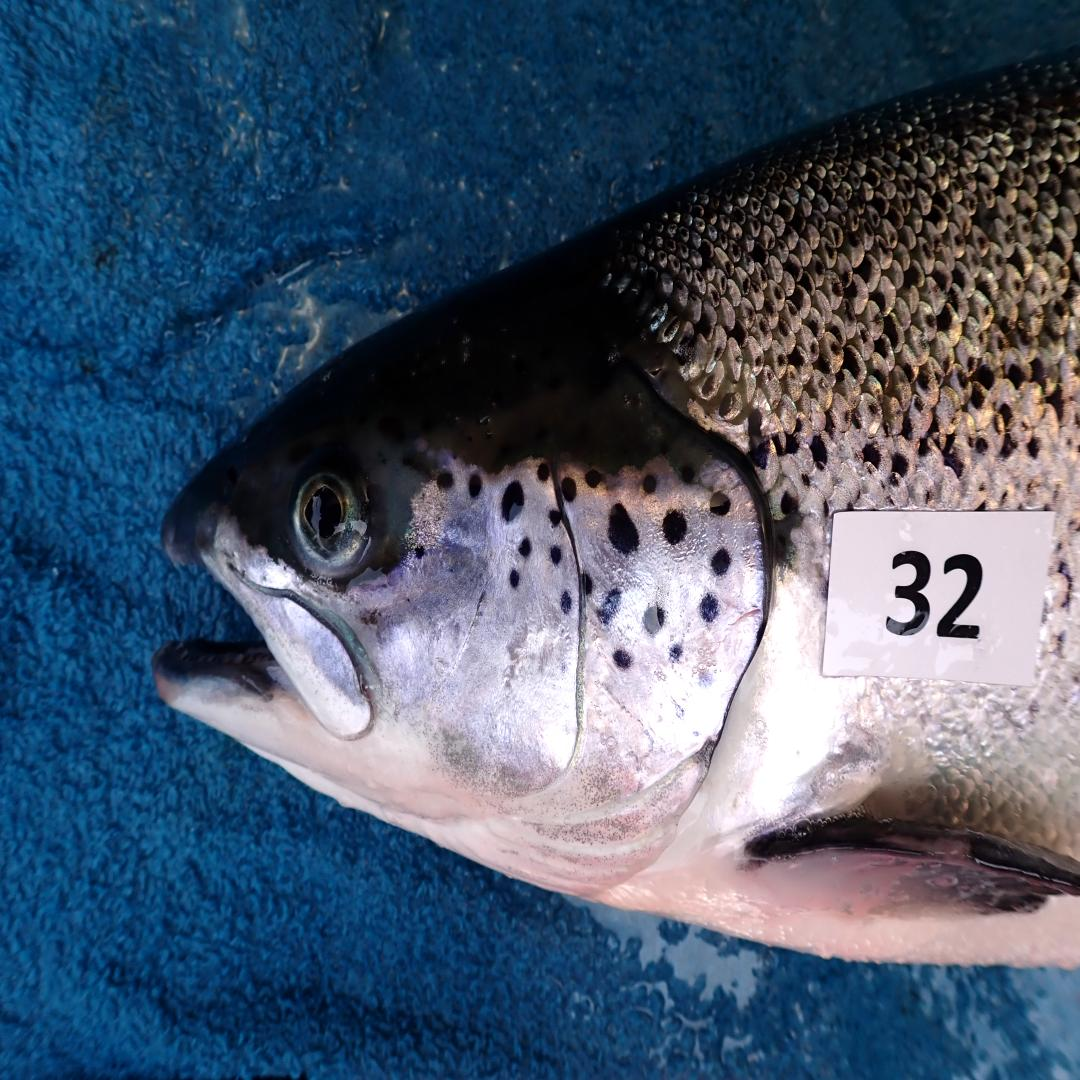roi: (371, 453, 771, 901)
